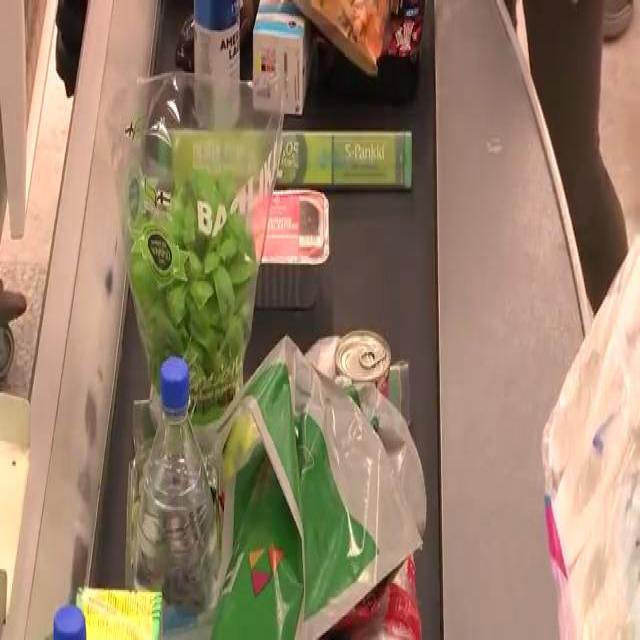beverage: (132, 366, 223, 640), (190, 0, 244, 135)
food-box: (149, 182, 343, 316), (252, 0, 316, 121), (332, 324, 406, 414)
utility-box: (94, 59, 294, 481)
